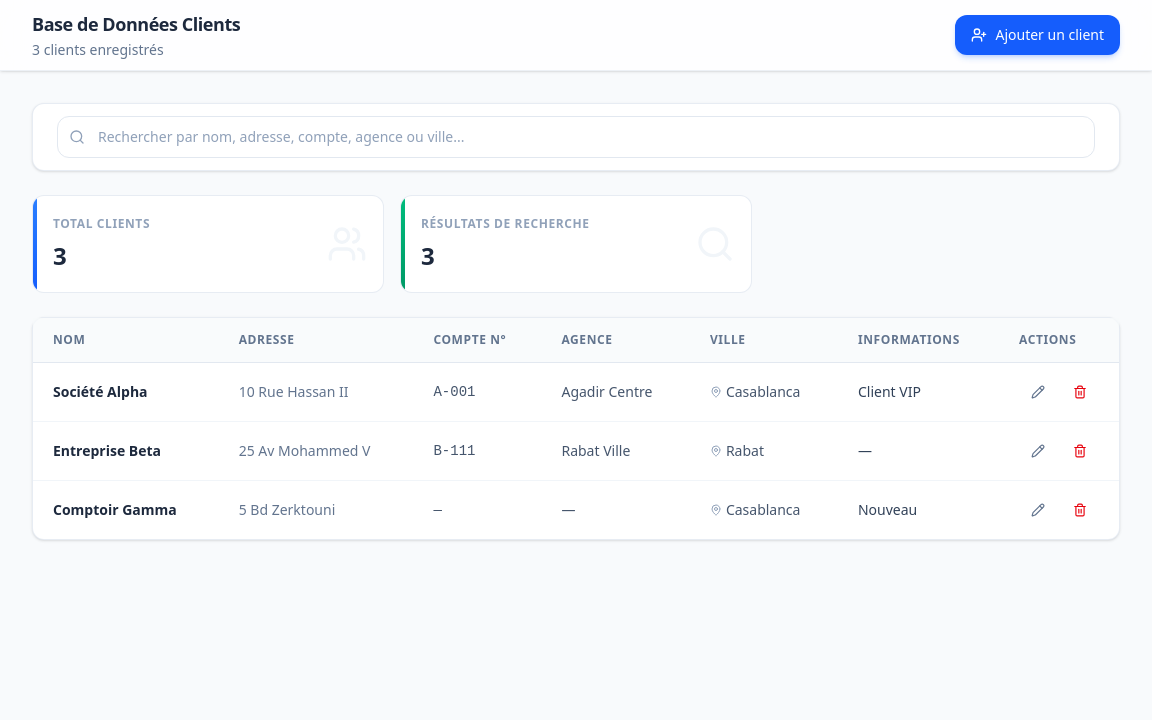
Scenario: CustomersPage › modal ajout › ouvre le modal d'ajout au clic sur Ajouter
Expected: the text "Société Alpha" is shown, x1=53 y1=382 x2=148 y2=401
What coordinates should you click on to do the following:
click the button "Ajouter un client"
I would click on:
 (1038, 35)
Its box is x1=956 y1=15 x2=1120 y2=55.
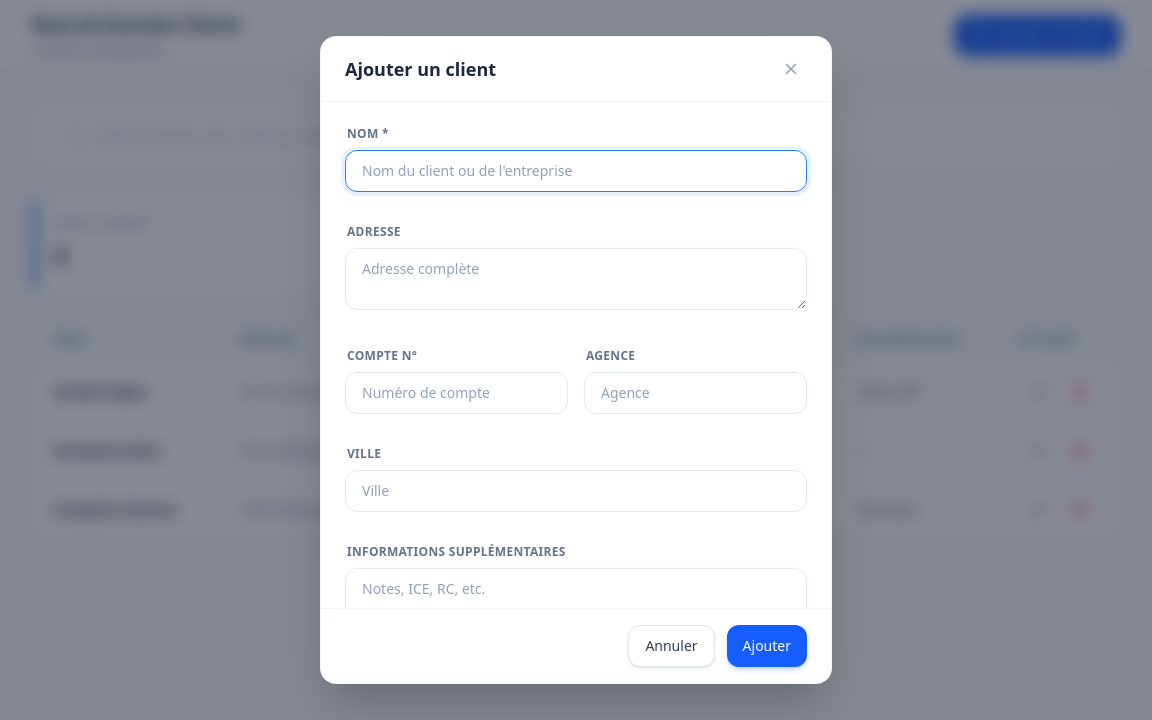
Now the heading "Ajouter un client" is shown, box x1=345 y1=55 x2=496 y2=83
